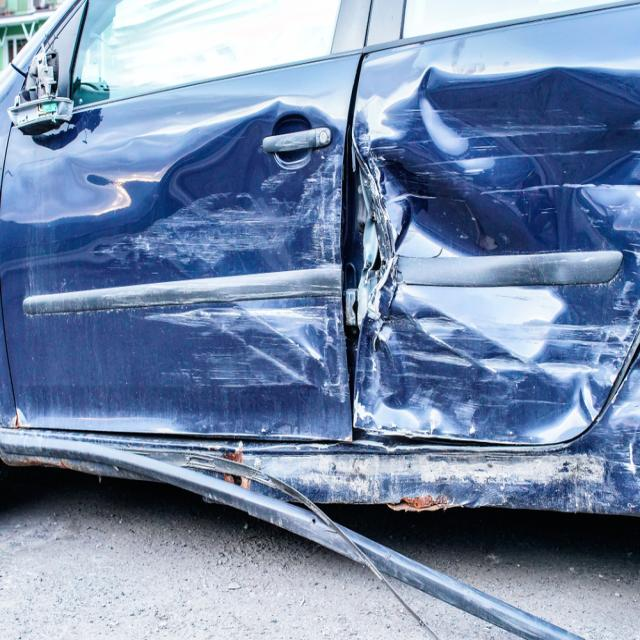dent: (359, 67, 640, 445), (110, 94, 348, 406)
